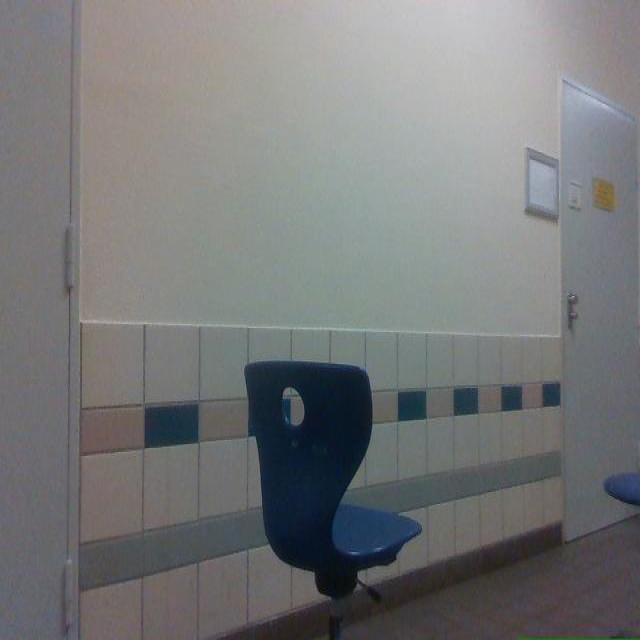objects: (245, 360, 421, 639)
